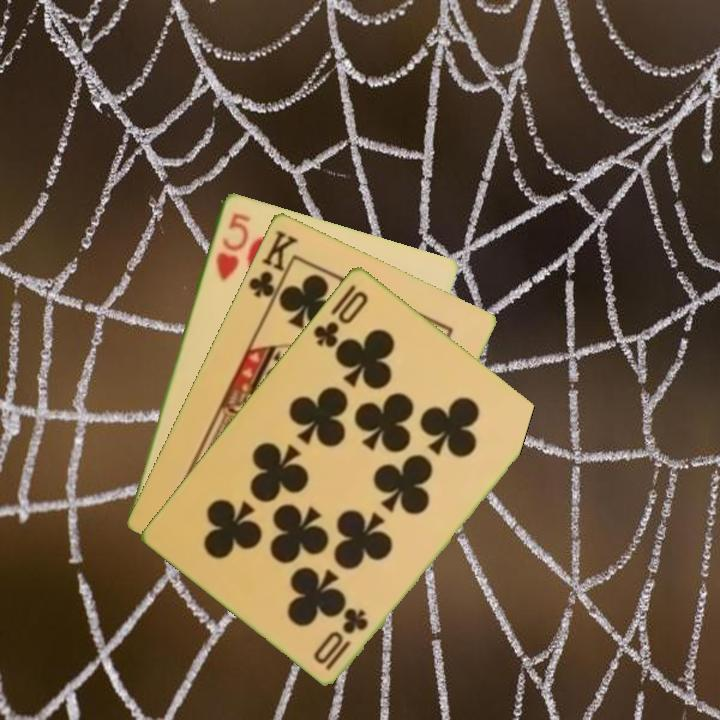10c: (310, 280, 372, 351), (310, 604, 371, 673)
5h: (211, 209, 253, 284)
Kc: (244, 225, 302, 309)
